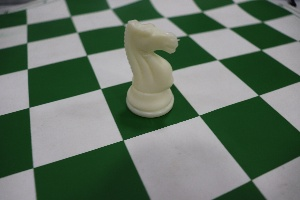white_horse: (115, 11, 185, 127)
